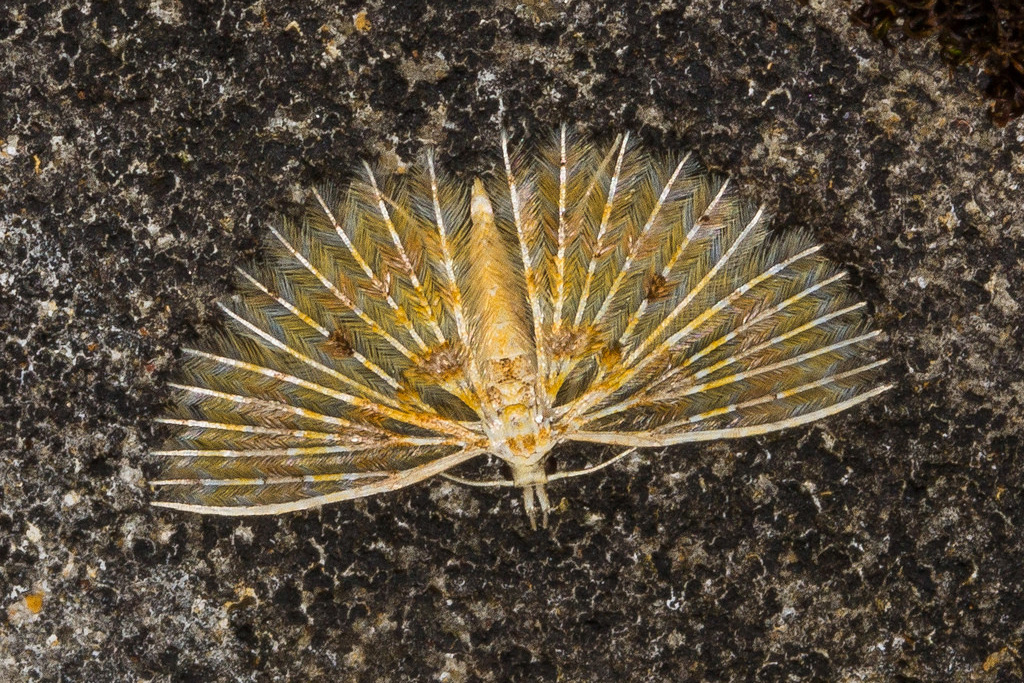Alucitidae: (139, 96, 902, 545)
moth: (141, 98, 904, 547)
